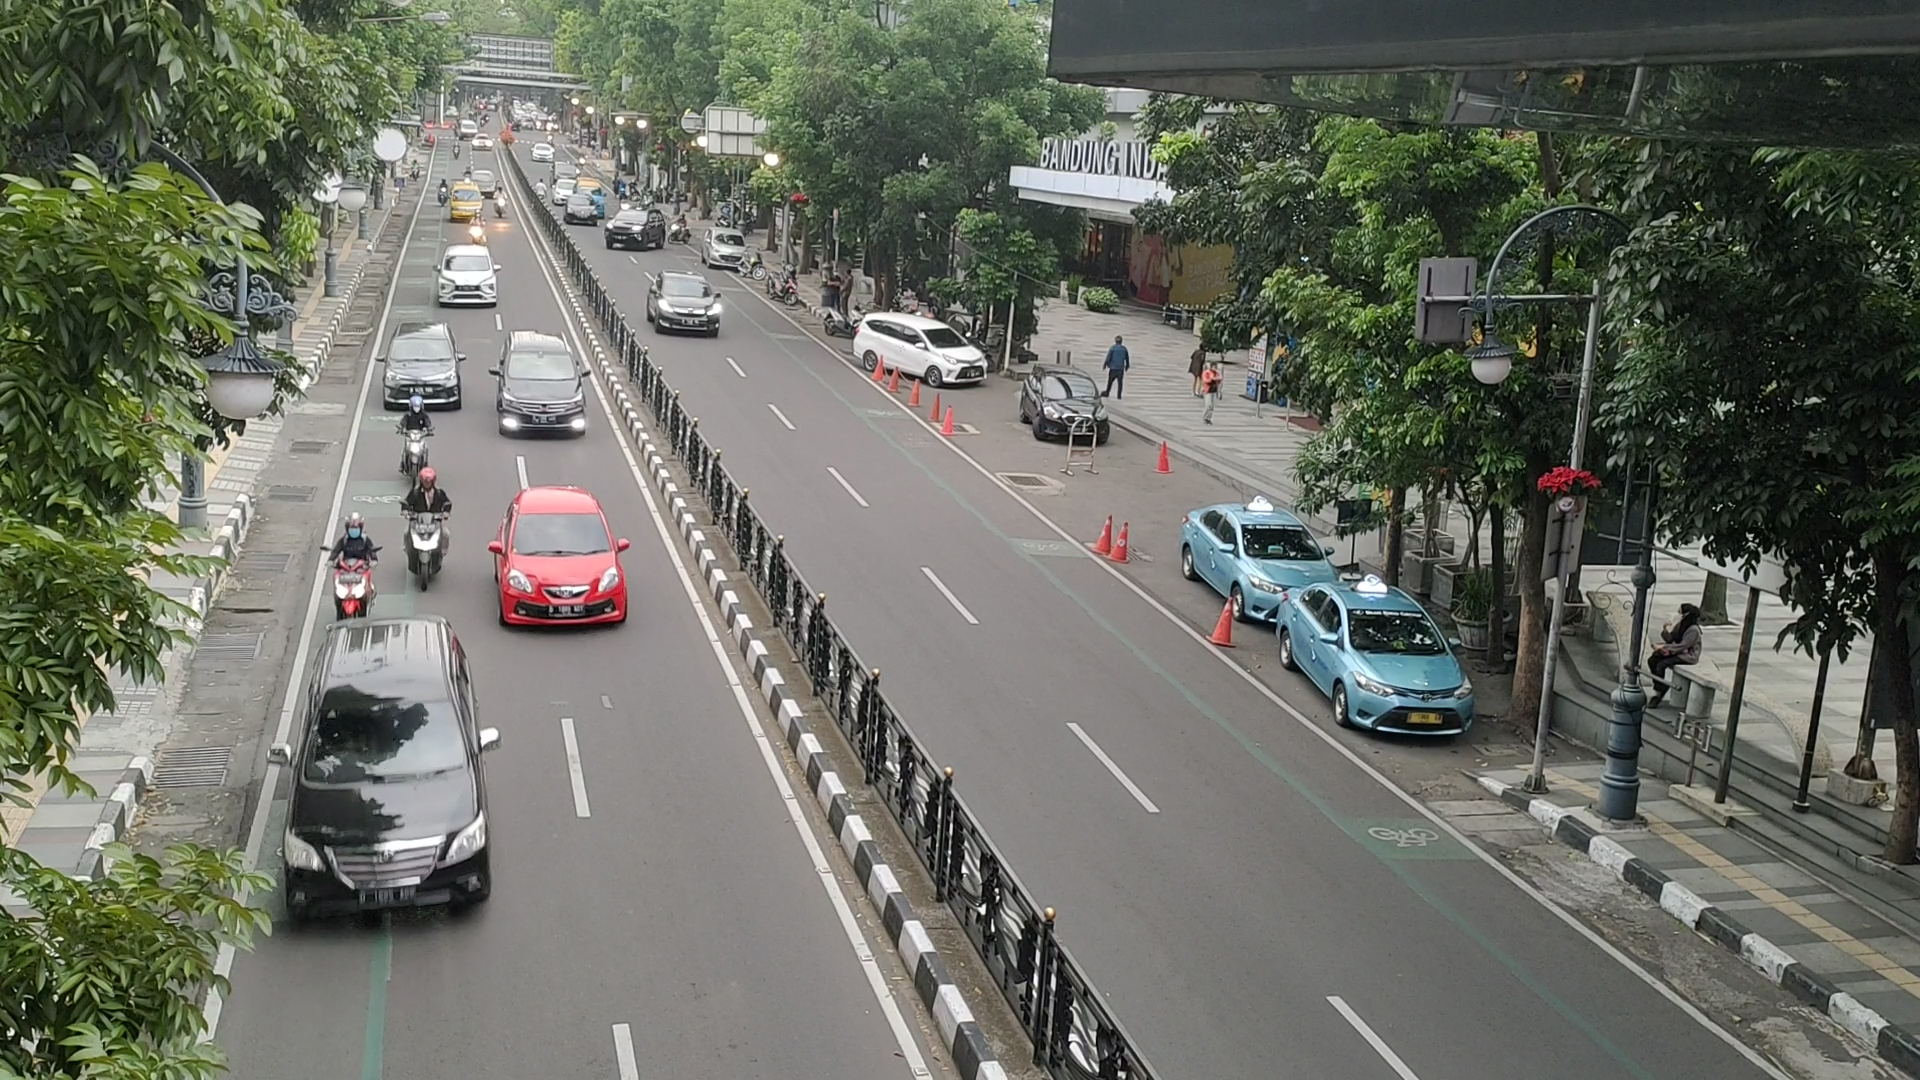mobil: (270, 694, 504, 928), (1331, 605, 1484, 745), (497, 508, 628, 632), (495, 342, 591, 446), (375, 334, 463, 413), (1029, 369, 1109, 446), (915, 320, 992, 394), (647, 270, 724, 338)
motor: (311, 508, 389, 644), (392, 458, 459, 601), (392, 392, 446, 487)
